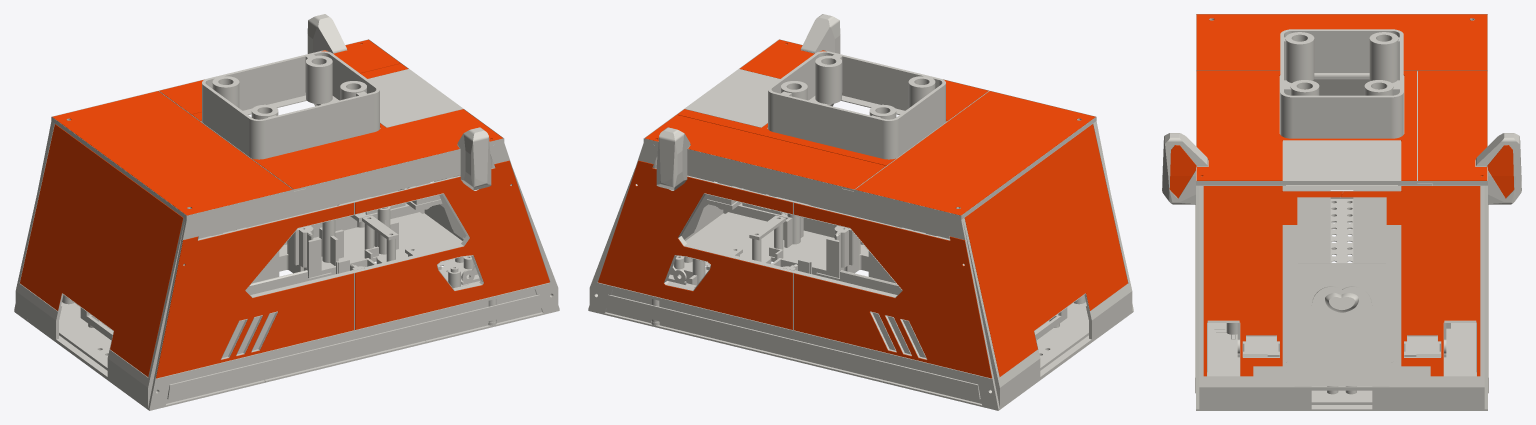
File: bratan_body_r5.glb
The picture shows the model from 3 angles, left to right: view 1: azimuth 30°, elevation 25°; view 2: azimuth 150°, elevation 25°; view 3: azimuth 270°, elevation 25°; orthographic projection. The views are drawn at different scales.
Parts seen in each view (by area): view 1: orange_07_rear_orange_inlay, orange_03_right_rear_orange_inlay, orange_04_right_front_orange_inlay, orange_12_lid_rear_orange_inlay, white_bottomless_lidar_carrier, white_06_wall_right_rear, white_07_wall_right_front, orange_08_roof_main_repaired, white_03_floor_front, white_11_lid_front_main, white_02_floor_rear_middle, white_09_wall_rear (+7 smaller); view 2: orange_07_rear_orange_inlay, orange_01_left_rear_orange_inlay, orange_02_left_front_orange_inlay, orange_12_lid_rear_orange_inlay, white_bottomless_lidar_carrier, white_04_wall_left_rear, white_05_wall_left_front, white_03_floor_front, orange_09_roof_side_orange_inlay, white_11_lid_front_main, orange_08_roof_main_repaired, white_02_floor_rear_middle (+7 smaller); view 3: white_08_wall_front, NEW_orange_front_cover_left, NEW_orange_front_cover_right, white_bottomless_lidar_carrier, orange_12_lid_rear_orange_inlay, orange_08_roof_main_repaired, white_11_lid_front_main, orange_09_roof_side_orange_inlay, white_03_floor_front, white_12_lid_front_side, white_05_wall_left_front, white_07_wall_right_front (+6 smaller).
Part boxes in pixels (box(x1,y1,x2,y2)): orange_07_rear_orange_inlay: box(20, 124, 183, 376); orange_03_right_rear_orange_inlay: box(156, 202, 353, 378); orange_04_right_front_orange_inlay: box(355, 160, 549, 329); orange_12_lid_rear_orange_inlay: box(52, 91, 292, 215); white_bottomless_lidar_carrier: box(202, 51, 379, 159); white_06_wall_right_rear: box(146, 179, 363, 409); white_07_wall_right_front: box(352, 142, 559, 357); orange_08_roof_main_repaired: box(192, 63, 502, 189); white_03_floor_front: box(284, 206, 559, 343); white_11_lid_front_main: box(192, 63, 504, 191); white_02_floor_rear_middle: box(222, 226, 426, 382); white_09_wall_rear: box(17, 123, 183, 406); orange_07_rear_orange_inlay: box(964, 124, 1127, 376); orange_01_left_rear_orange_inlay: box(794, 202, 991, 378); orange_02_left_front_orange_inlay: box(598, 160, 792, 329); orange_12_lid_rear_orange_inlay: box(855, 91, 1095, 215); white_bottomless_lidar_carrier: box(768, 51, 945, 159); white_04_wall_left_rear: box(784, 179, 1001, 409); white_05_wall_left_front: box(588, 142, 795, 357); white_03_floor_front: box(588, 212, 863, 343); orange_09_roof_side_orange_inlay: box(645, 115, 885, 189); white_11_lid_front_main: box(677, 14, 988, 165); orange_08_roof_main_repaired: box(677, 39, 988, 165); white_02_floor_rear_middle: box(721, 226, 925, 382); white_08_wall_front: box(1203, 184, 1480, 409); NEW_orange_front_cover_left: box(1341, 186, 1480, 376); NEW_orange_front_cover_right: box(1203, 186, 1343, 376); white_bottomless_lidar_carrier: box(1280, 29, 1403, 138); orange_12_lid_rear_orange_inlay: box(1196, 14, 1487, 70); orange_08_roof_main_repaired: box(1196, 70, 1416, 180); white_11_lid_front_main: box(1162, 70, 1432, 204); orange_09_roof_side_orange_inlay: box(1418, 70, 1487, 180); white_03_floor_front: box(1196, 323, 1487, 410); white_12_lid_front_side: box(1417, 70, 1521, 204); white_05_wall_left_front: box(1476, 185, 1488, 409); white_07_wall_right_front: box(1195, 185, 1207, 409).
Size of the model in its own units: 409 by 213 by 286.
